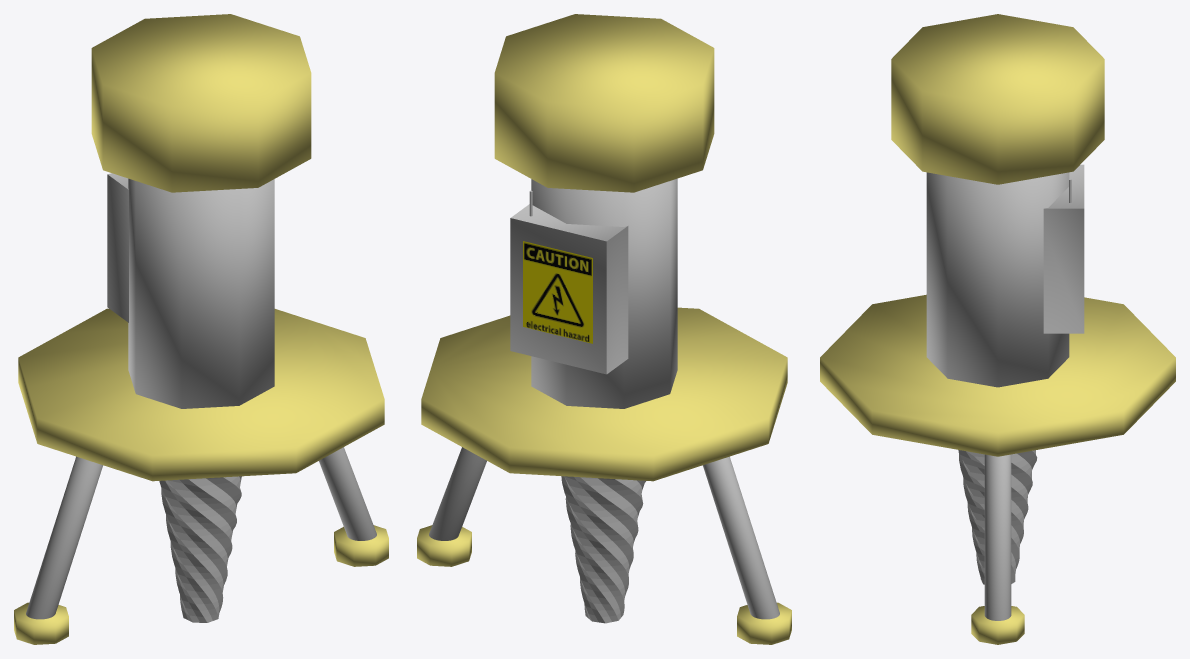
The picture shows the model from 3 angles, left to right: view 1: azimuth 30°, elevation 25°; view 2: azimuth 150°, elevation 25°; view 3: azimuth 270°, elevation 25°; orthographic projection. The views are drawn at different scales.
Parts seen in each view (by area): view 1: Base, DrillHousing, Column, DrillBit, Pipe_0.001, Motor, Pipe_0, DrillHousing.002, DrillHousing.001; view 2: Base, DrillHousing, Column, Motor, DrillBit, Ekrānuzņēmums 2025-12-27 124001, Pipe_0.001, Pipe_0, DrillHousing.002, DrillHousing.001; view 3: Base, DrillHousing, Column, Motor, Pipe_0, DrillBit, DrillHousing.002.
Boxes of the visible parts, left/top/right/bottom form: Base: left=18, top=308, right=384, bottom=481; DrillHousing: left=91, top=14, right=311, bottom=192; Column: left=128, top=178, right=274, bottom=408; DrillBit: left=159, top=476, right=241, bottom=622; Pipe_0.001: left=26, top=456, right=102, bottom=619; Motor: left=107, top=173, right=128, bottom=322; Pipe_0: left=319, top=447, right=376, bottom=540; DrillHousing.002: left=334, top=525, right=388, bottom=566; DrillHousing.001: left=14, top=602, right=68, bottom=644; Base: left=421, top=307, right=787, bottom=481; DrillHousing: left=494, top=14, right=714, bottom=192; Column: left=531, top=178, right=677, bottom=408; Motor: left=510, top=204, right=628, bottom=374; DrillBit: left=561, top=476, right=645, bottom=623; Ekrānuzņēmums 2025-12-27 124001: left=523, top=241, right=592, bottom=343; Pipe_0.001: left=703, top=456, right=779, bottom=619; Pipe_0: left=429, top=447, right=486, bottom=540; DrillHousing.002: left=417, top=525, right=471, bottom=566; DrillHousing.001: left=737, top=602, right=791, bottom=644; Base: left=820, top=294, right=1175, bottom=456; DrillHousing: left=891, top=14, right=1104, bottom=184; Column: left=926, top=172, right=1069, bottom=387; Motor: left=1043, top=164, right=1084, bottom=333; Pipe_0: left=984, top=454, right=1011, bottom=620; DrillBit: left=958, top=450, right=1037, bottom=584; DrillHousing.002: left=971, top=606, right=1024, bottom=644.
Bounding box in the file's own units: 450 × 646 × 400.
